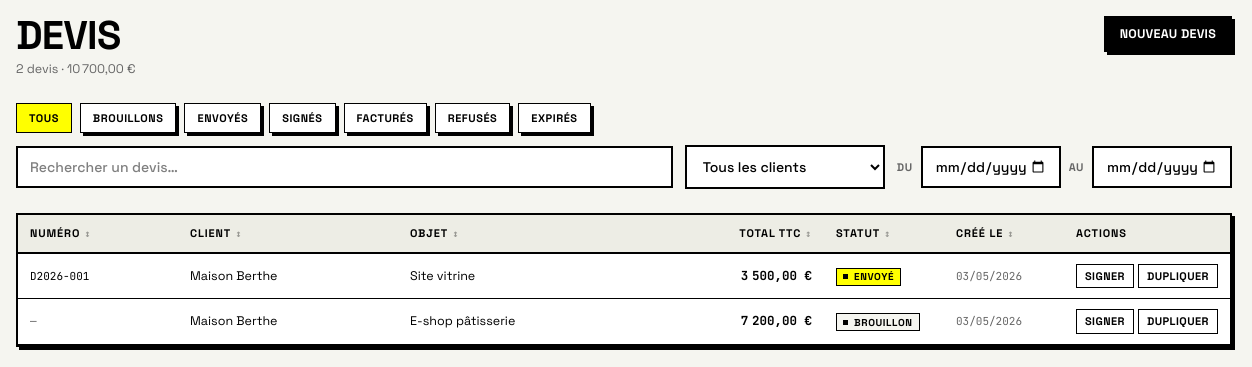
Test: QuotesListRoute › recherche textuelle filtre par titre
Expected: the text "Site vitrine" is shown, [410,268,475,284]
Type "pâtisserie" into the search field with test id "quotes-search". click: (344, 167)
box: [16,146,673,188]
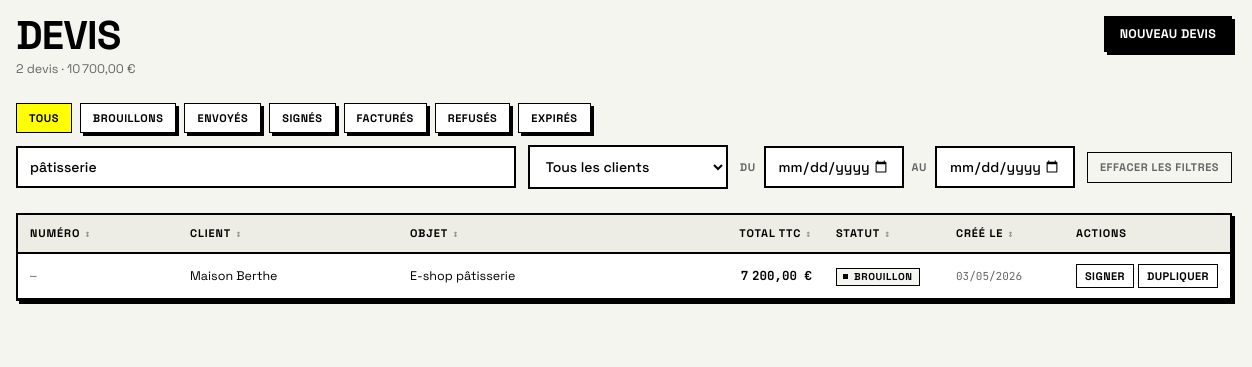
Expected: the text "E-shop pâtisserie" is shown, [410,268,515,284]
Now the text "Site vitrine" is gone
